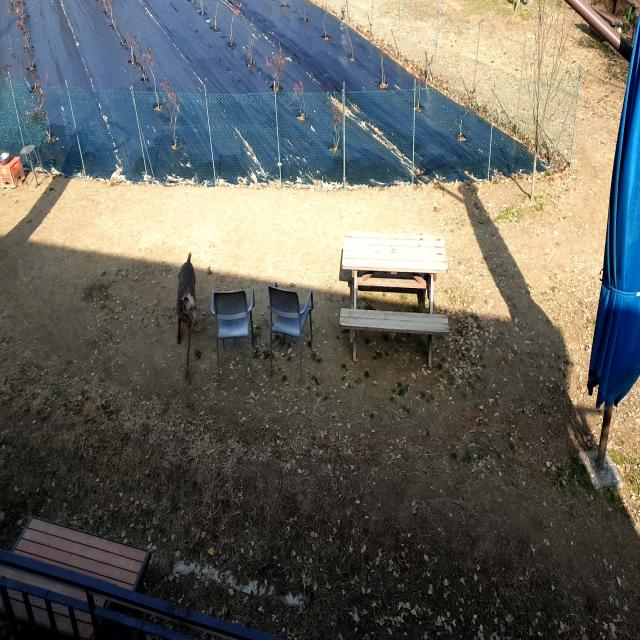Dog: (177, 252, 200, 379)
